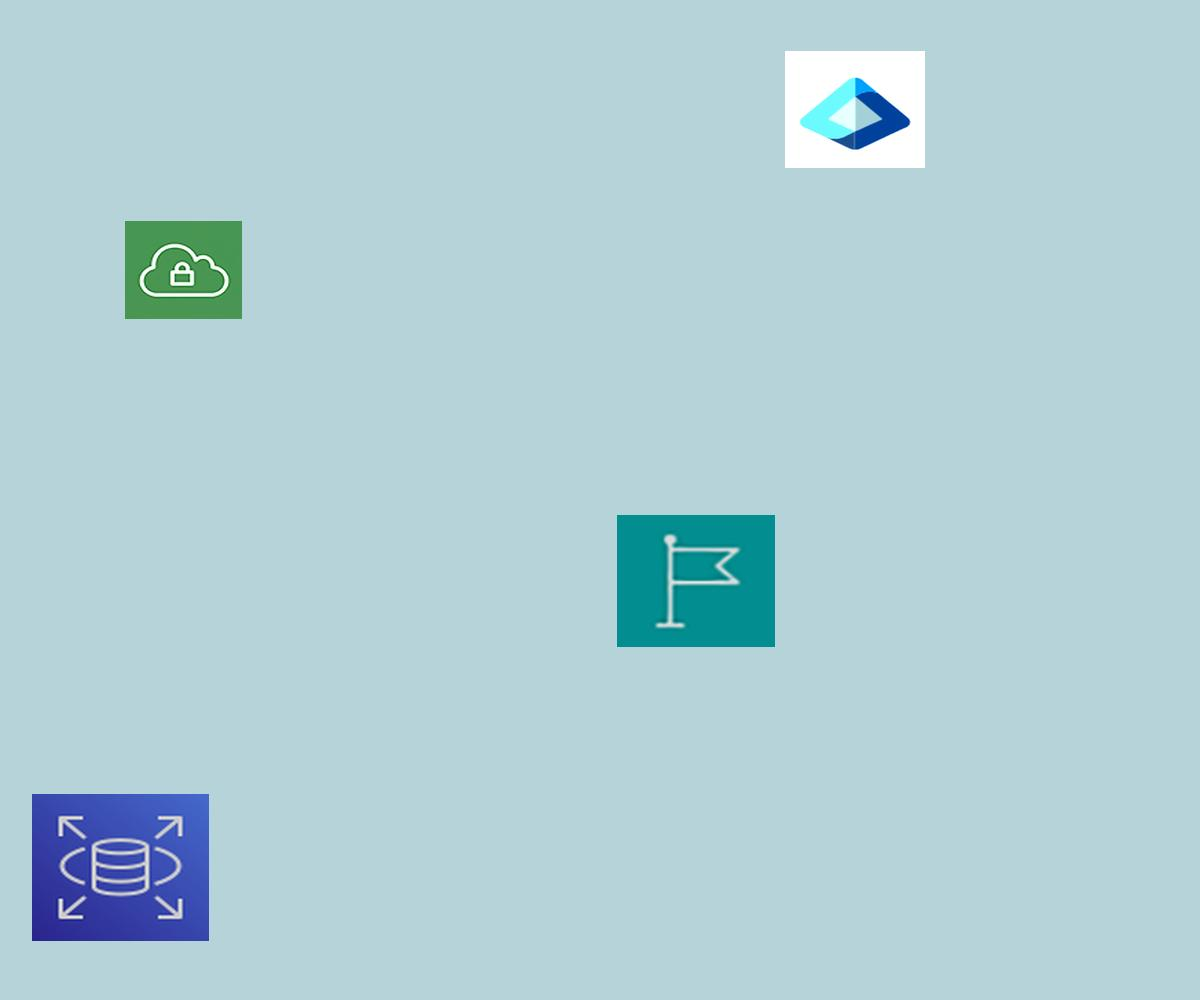AWS-Private_vpc: (125, 221, 242, 319)
AWS-RDS: (32, 794, 209, 941)
AWS-Region: (617, 515, 775, 647)
Azure_microsoft_entra: (785, 51, 925, 168)
